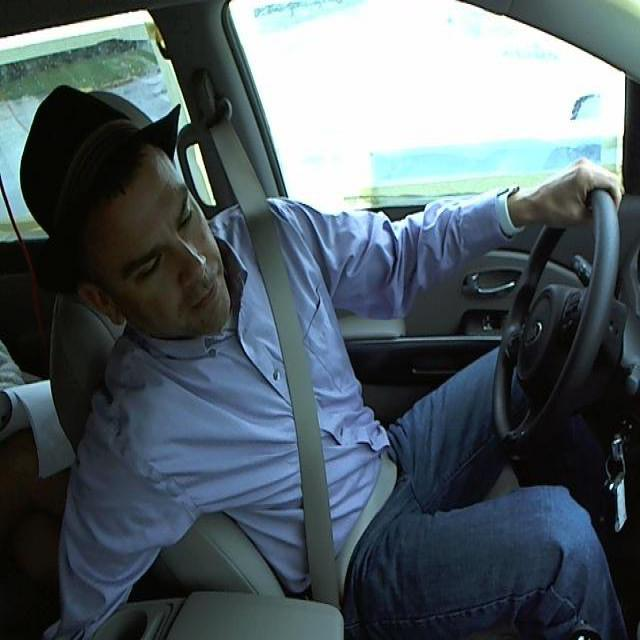seatbelt: (245, 218, 380, 590)
